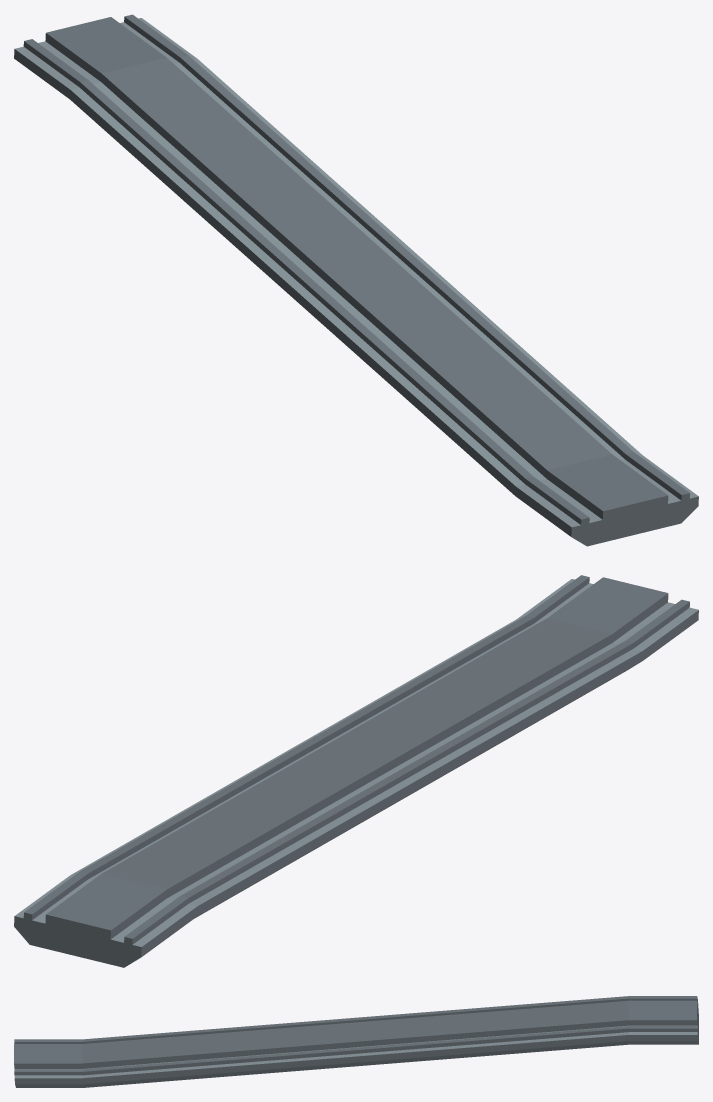
File: SM_monorail_tracks_01_C.glb
The picture shows the model from 3 angles, top to bottom: view 1: azimuth 30°, elevation 25°; view 2: azimuth 150°, elevation 25°; view 3: azimuth 270°, elevation 25°; orthographic projection. The views are drawn at different scales.
Parts seen in each view (by area): view 1: SM_monorail_tracks_01_C; view 2: SM_monorail_tracks_01_C; view 3: SM_monorail_tracks_01_C.
Part boxes in pixels (<box>): SM_monorail_tracks_01_C: <box>14,14,698,546</box>; SM_monorail_tracks_01_C: <box>14,575,698,967</box>; SM_monorail_tracks_01_C: <box>14,996,698,1087</box>.
Size of the model in its own units: 1.31 by 1.02 by 10.
1 material, 1 textured.
